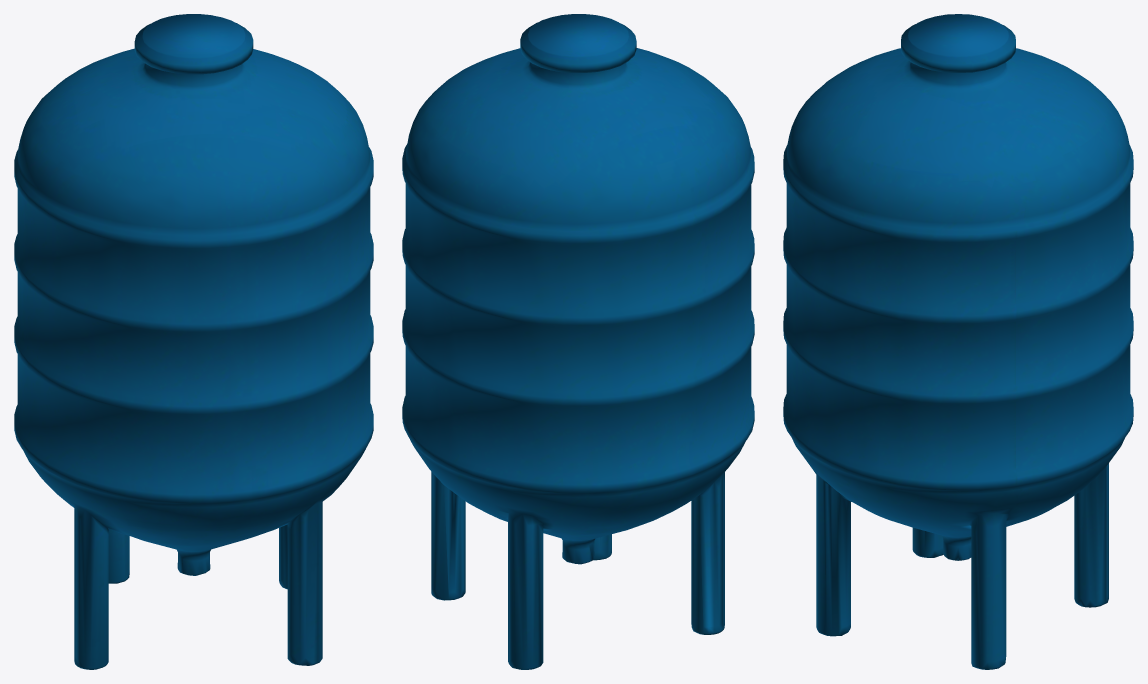
The model's file is Industrial__water_tank_c27c18f7_v4.cluster.glb.
3 views of the same model, side by side, from view 1: azimuth 30°, elevation 25°; view 2: azimuth 150°, elevation 25°; view 3: azimuth 270°, elevation 25° (orthographic). The views are drawn at different scales.
Parts seen in each view (by area): view 1: material; view 2: material; view 3: material.
Part boxes in pixels (x1=…): material: x1=14, y1=14, x2=373, y2=669; material: x1=402, y1=14, x2=754, y2=669; material: x1=783, y1=14, x2=1133, y2=669.
Size of the model in its own units: 1.05 by 1.9 by 1.05.
Materials: 1 (1 with a texture image).
